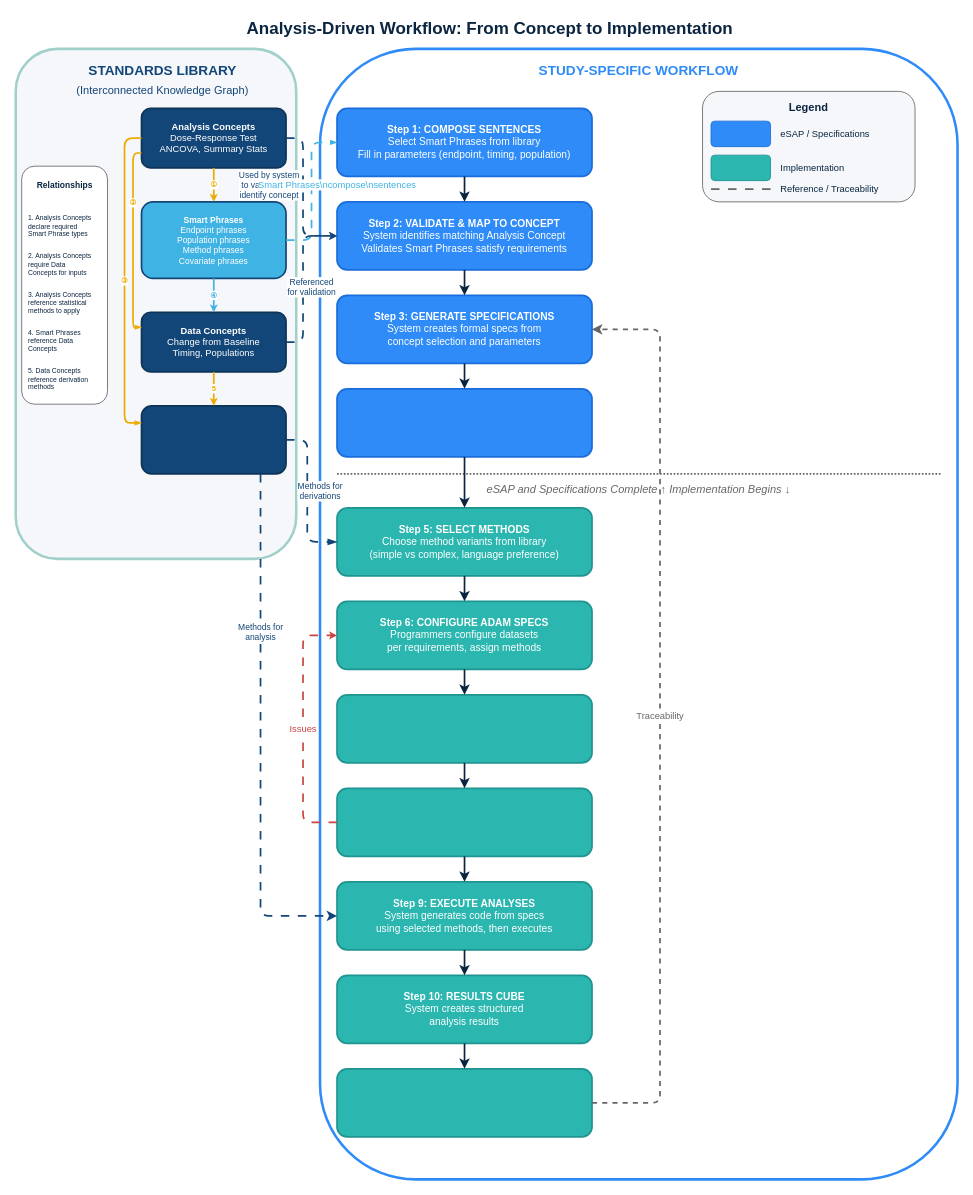
The diagram is 973 pixels wide and 1195 high, and some of its shapes have lost their labels. Here are the shapes that lost their labels. From the top down, the centre of each, then its label:
At (x=213, y=439): "Method Library Semantic definitions Code implementations (R, SAS, Python)".
At (x=464, y=422): "Step 4: AGGREGATE REQUIREMENTS System creates complete ADaM data requirements".
At (x=464, y=728): "Step 7: GENERATE ADAM Automated/Semi-automated SDTM to ADaM transformation".
At (x=464, y=822): "Step 8: VALIDATE DATASETS System validates datasets against requirements".
At (x=464, y=1102): "Step 11: GENERATE DISPLAYS System generates tables, figures, and dashboards".
